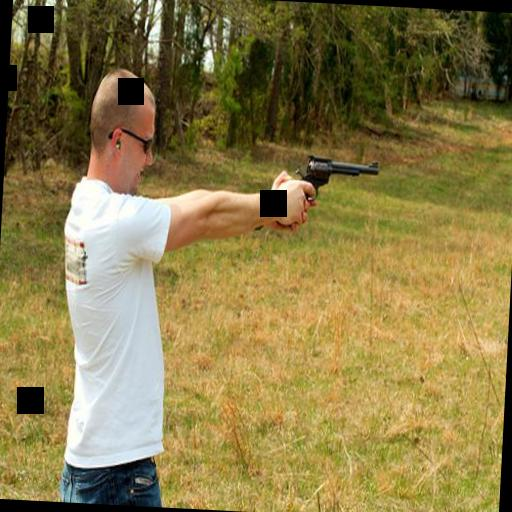Handgun: (290, 151, 380, 206)
